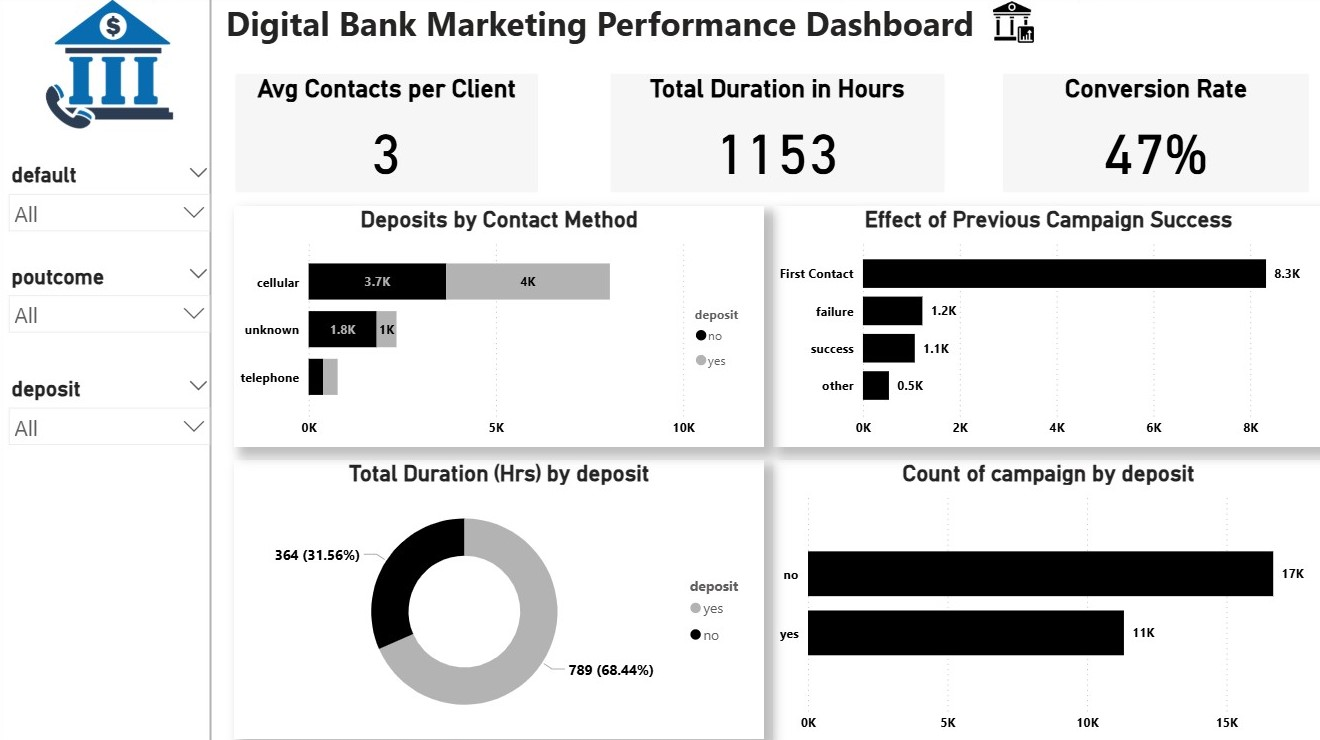

Layout of this report page (visuals, bound fields, positions):
{"tool":"powerbi","page":{"name":"Campaign Strategy","canvas":[1280,720],"ordinal":2},"visuals":[{"type":"card","title":"Avg Contacts per Client","fields":{"Values":["Avg(bank.campaign)"]},"box":[229.2,76,292,114.6],"z":0},{"type":"shape","box":[51.9,0,306.4,720.2],"z":1000},{"type":"card","title":"Total Duration in Hours","fields":{"Values":["bank.Total Duration (Hrs)"]},"box":[591.2,76,322.1,114.6],"z":2000},{"type":"textbox","box":[214.7,0,839.7,61.5],"z":3000},{"type":"card","title":"Conversion Rate","fields":{"Values":["bank.Conversion Rate"]},"box":[970,76,295.6,114.6],"z":4000},{"type":"barChart","title":"Deposits by Contact Method","fields":{"Category":["bank.contact"],"Series":["bank.deposit"],"Y":["bank.Total Customers"]},"box":[228,203.9,511.5,231.6],"z":5000},{"type":"clusteredBarChart","title":"Count of campaign by deposit","fields":{"Y":["Sum(bank.campaign)"],"Category":["bank.deposit"]},"box":[748,448.8,532,271.4],"z":6000},{"type":"slicer","fields":{"Values":["bank.default"]},"box":[0,156.5,214.8,144.4],"z":7000},{"type":"slicer","fields":{"Values":["bank.deposit"]},"box":[0,362.8,214.8,145.6],"z":8000},{"type":"donutChart","fields":{"Y":["bank.Total Duration (Hrs)"],"Category":["bank.deposit"]},"box":[228,448.8,511.5,269],"z":9000},{"type":"slicer","fields":{"Values":["bank.poutcome"]},"box":[0,254.8,214.8,145.6],"z":10000},{"type":"barChart","title":"Effect of Previous Campaign Success","fields":{"Y":["CountNonNull(bank.deposit)"],"Category":["bank.poutcome"]},"box":[748,203.9,532,231.6],"z":11000},{"type":"image","box":[0,0,214.7,133.9],"z":12000},{"type":"image","box":[830,0,300.4,51.9],"z":13000}]}

Visuals, with their boxes in screenshot pixels (x1, y1, x2, y2), scaled from the page's 1280x720 canvas onto the 1320x740 screenshot:
"Avg Contacts per Client" card: select_region(236, 78, 537, 196)
shape: select_region(54, 0, 369, 739)
"Total Duration in Hours" card: select_region(610, 78, 942, 196)
textbox: select_region(221, 0, 1087, 63)
"Conversion Rate" card: select_region(1000, 78, 1305, 196)
"Deposits by Contact Method" barChart: select_region(235, 210, 763, 448)
"Count of campaign by deposit" clusteredBarChart: select_region(771, 461, 1319, 739)
slicer - bank.default: select_region(0, 161, 222, 309)
slicer - bank.deposit: select_region(0, 373, 222, 523)
donutChart - bank.Total Duration (Hrs) x bank.deposit: select_region(235, 461, 763, 738)
slicer - bank.poutcome: select_region(0, 262, 222, 412)
"Effect of Previous Campaign Success" barChart: select_region(771, 210, 1319, 448)
image: select_region(0, 0, 221, 138)
image: select_region(856, 0, 1166, 53)
